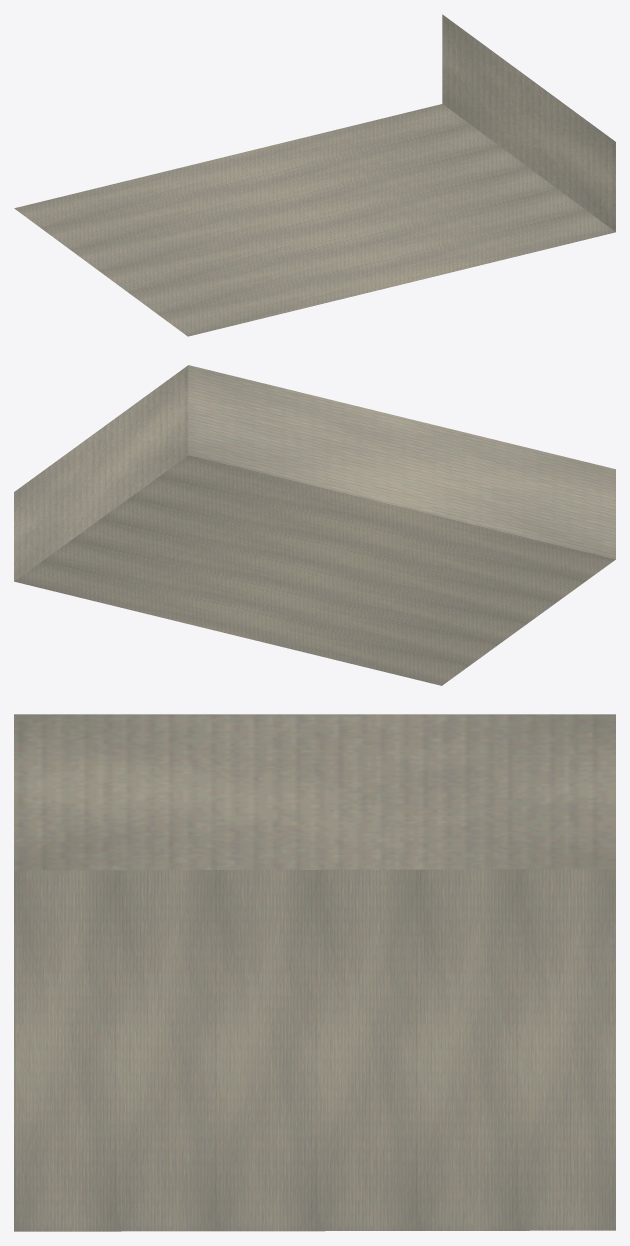
The model's file is ROAD01.glb.
3 views of the same model, one above another, from view 1: azimuth 30°, elevation 25°; view 2: azimuth 150°, elevation 25°; view 3: azimuth 270°, elevation 25° (orthographic). The views are drawn at different scales.
Visible parts, largest first — view 1: ROAD01; view 2: ROAD01; view 3: ROAD01.
Boxes of the visible parts, x1=… form: ROAD01: x1=14, y1=14, x2=615, y2=336; ROAD01: x1=14, y1=365, x2=615, y2=685; ROAD01: x1=14, y1=714, x2=615, y2=1231.
Size of the model in its own units: 1529 by 308 by 1076.
2 materials, 1 textured.
